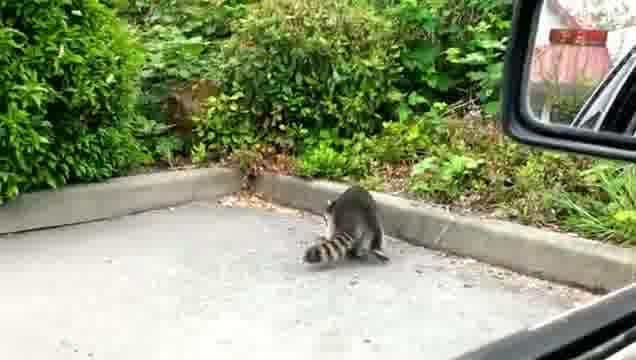raccoon: (302, 184, 393, 268)
